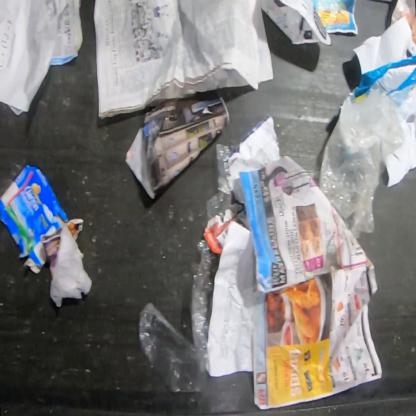cardboard: (0, 165, 69, 275)
soft_plastic: (317, 86, 410, 240), (138, 239, 219, 394), (352, 55, 415, 111), (206, 143, 242, 222)
